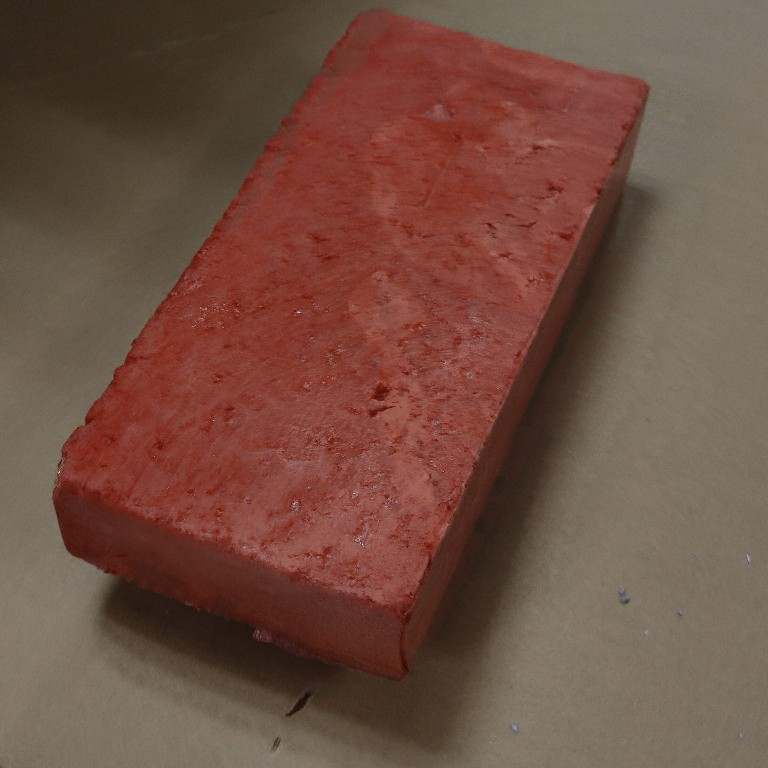brick: (49, 1, 653, 682)
